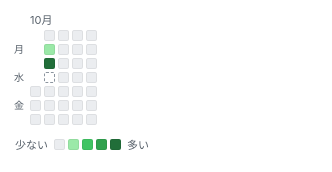
Test case: GrassCalendar › uses the formatCount function for the count in the tooltip and the accessible name
Focus the button named "2026年10月6日: 50 回" at [50, 64], box [44,58,55,69]
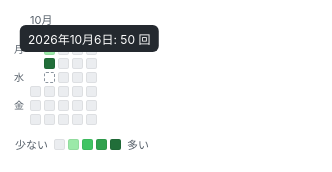
Result: the tooltip "2026年10月6日: 50 回" is shown at [20,25,158,52]
